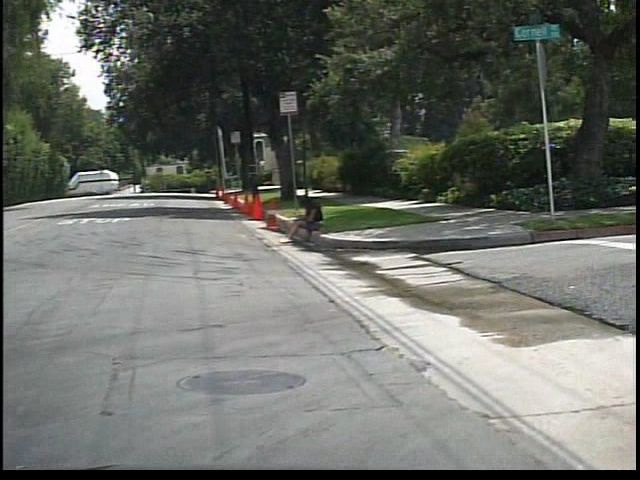person: (280, 192, 335, 246)
